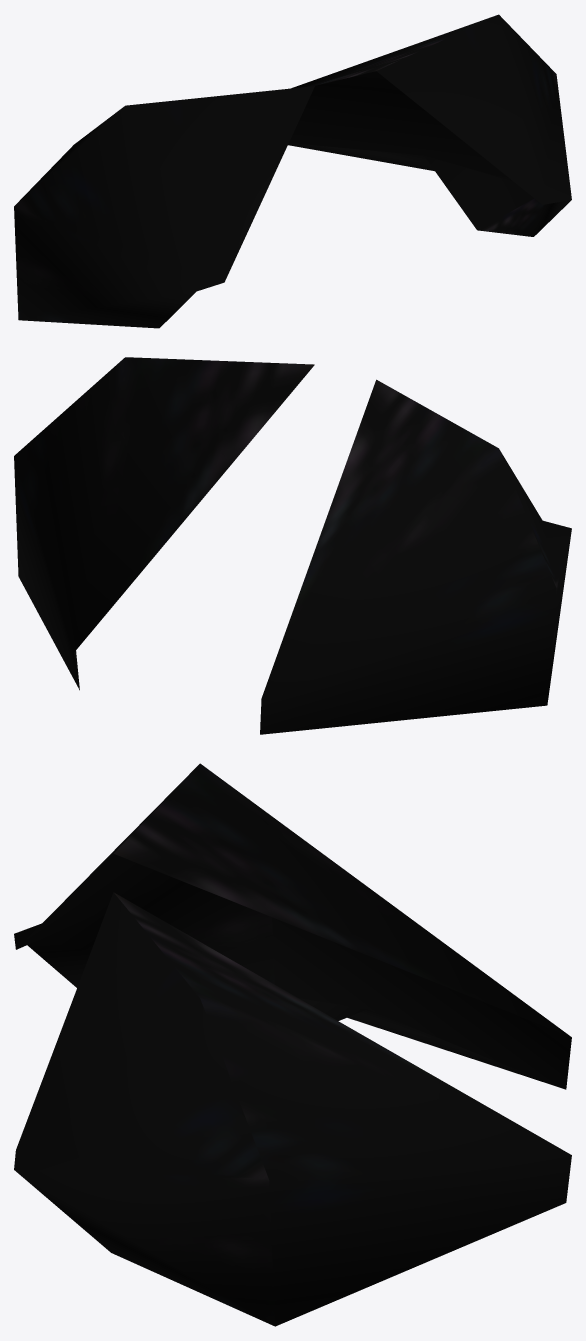
The model's file is hair_nok_m_02.dae.
3 renders of one model, top to bottom at view 1: azimuth 30°, elevation 25°; view 2: azimuth 150°, elevation 25°; view 3: azimuth 270°, elevation 25°, orthographic. The views are drawn at different scales.
Parts seen in each view (by area): view 1: hair_nok_m_02; view 2: hair_nok_m_02; view 3: hair_nok_m_02.
Boxes of the visible parts, x1,y1,x2,y2 form: hair_nok_m_02: (14, 14, 571, 328); hair_nok_m_02: (14, 357, 571, 734); hair_nok_m_02: (14, 763, 571, 1326).
Bounding box in the file's own units: 0.5311 × 0.3672 × 0.2183.
Materials: 1 (1 with a texture image).
